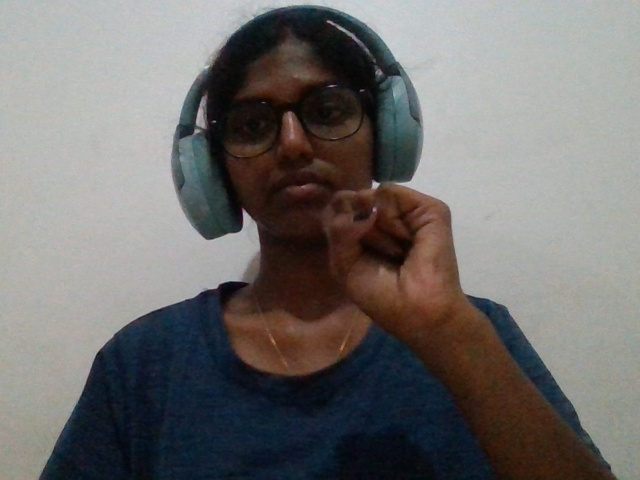Yes: (310, 174, 521, 396)
